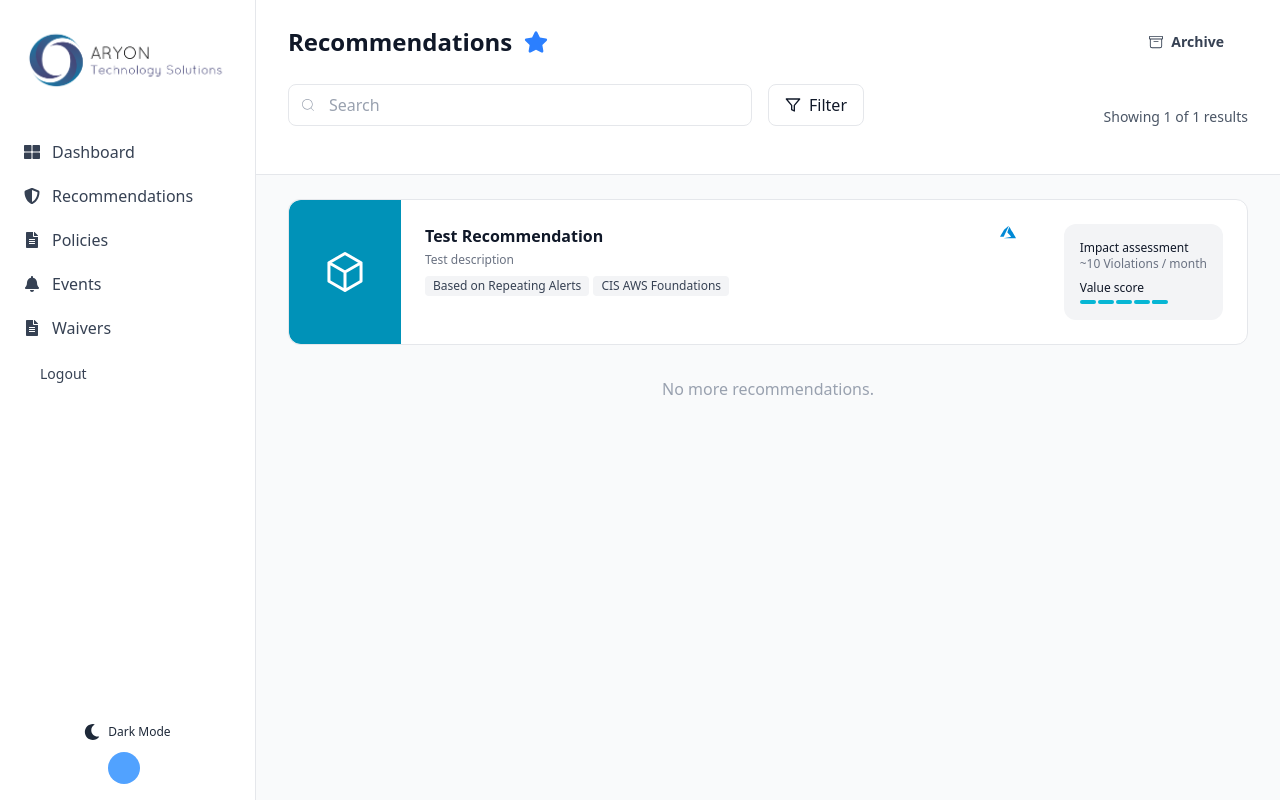
Scenario: DashboardContent › opens and closes side panel
This screenshot has width=1280, height=800.
Wait for the recommendation cards to appear
Click the element with test id "recommendation-card": (768,272) [288,199,1248,345]
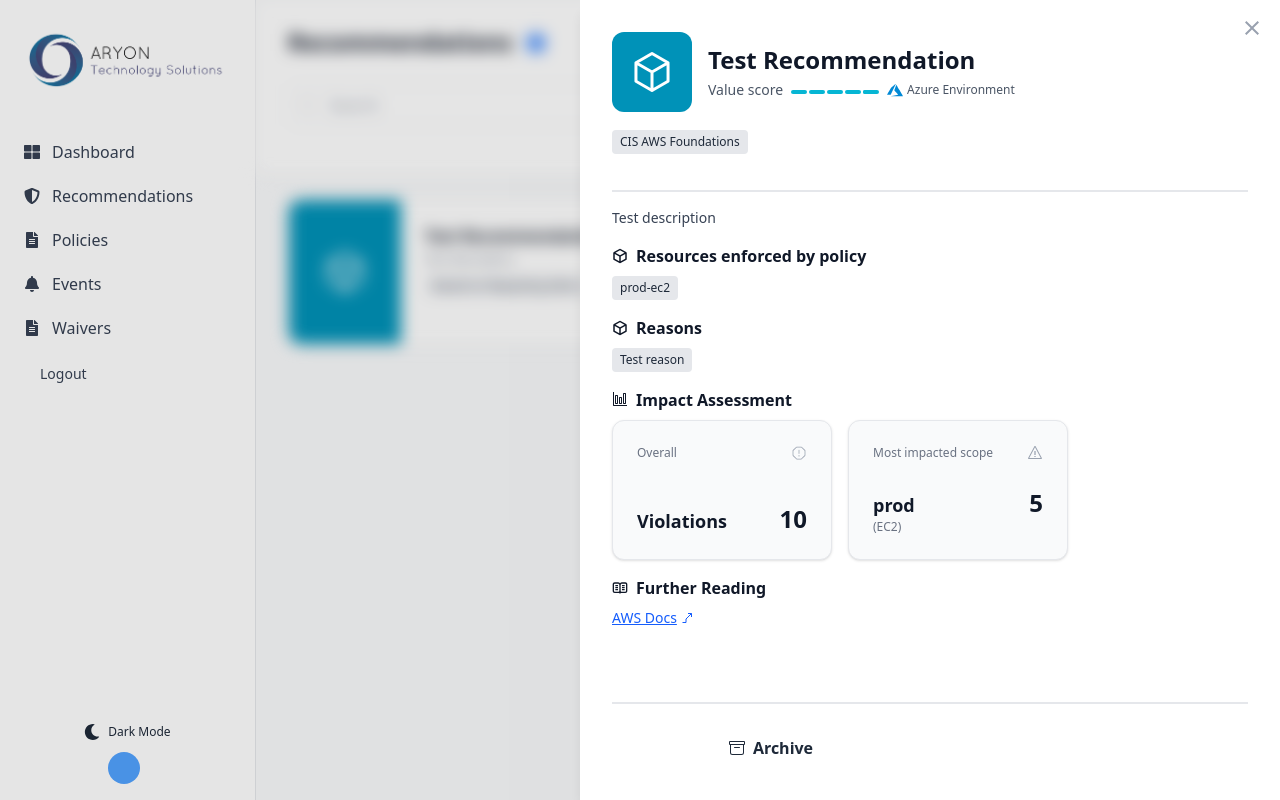
Now the element with test id "side-panel" is shown, box [580,0,1279,799]
Click the button named "close": (1252,28) [1240,16,1264,40]
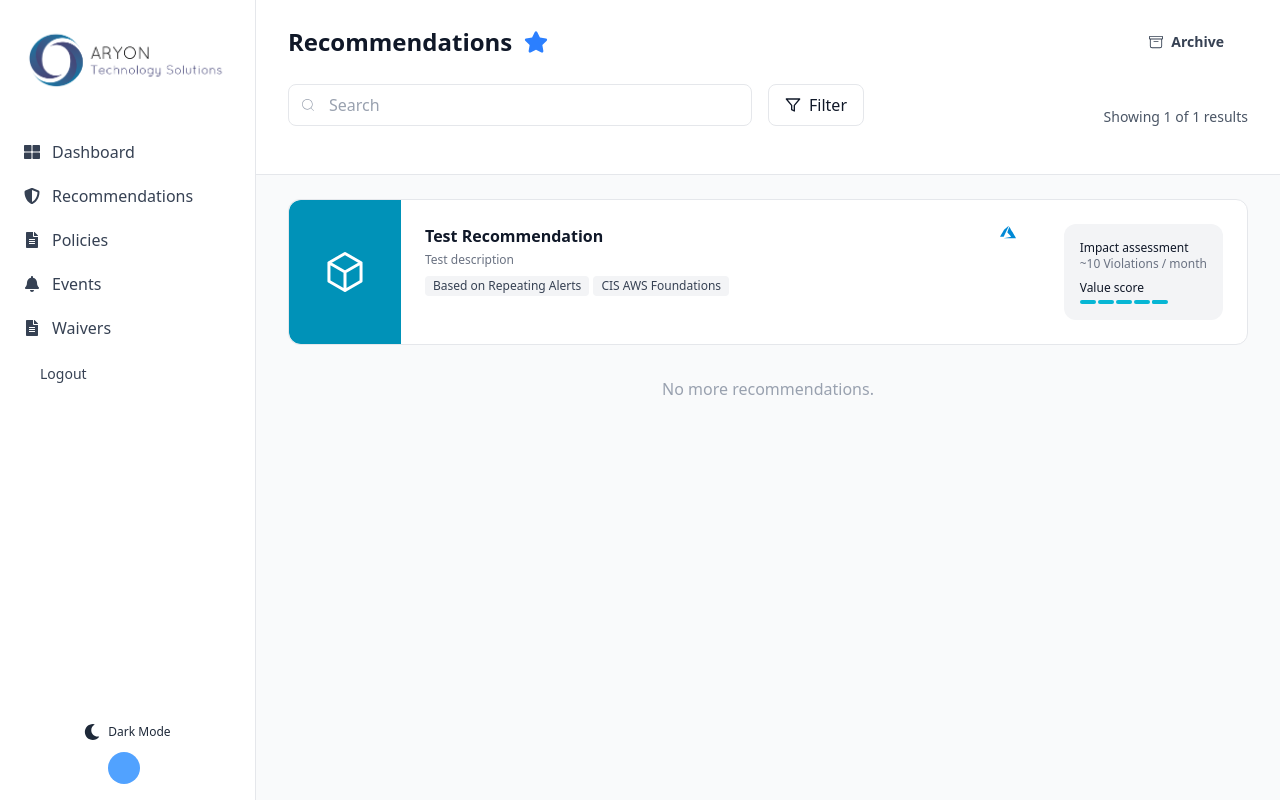
Now the element with test id "side-panel" is gone
